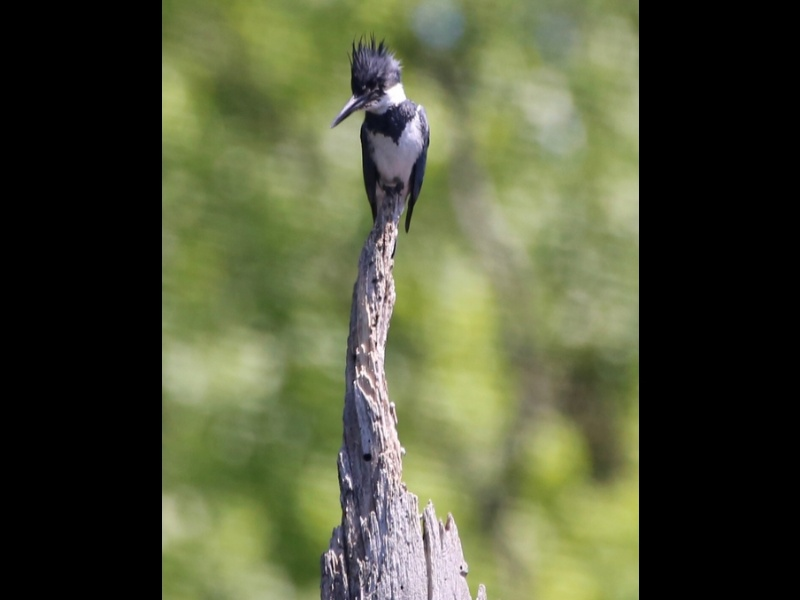kingfisher: (331, 37, 431, 237)
